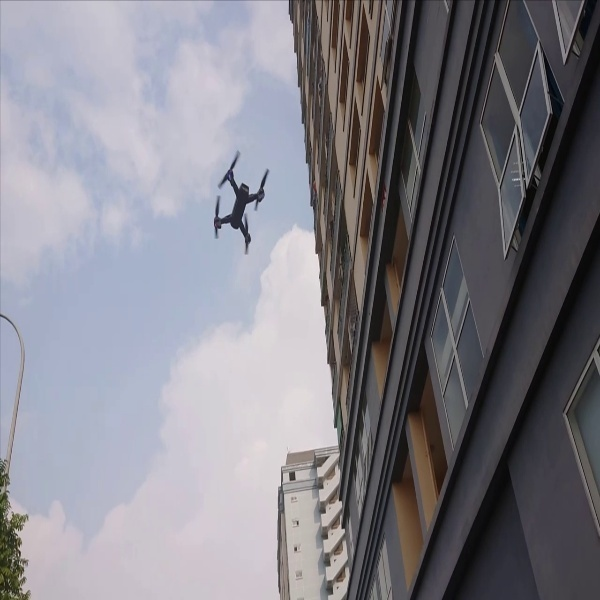drone: (206, 149, 274, 254)
